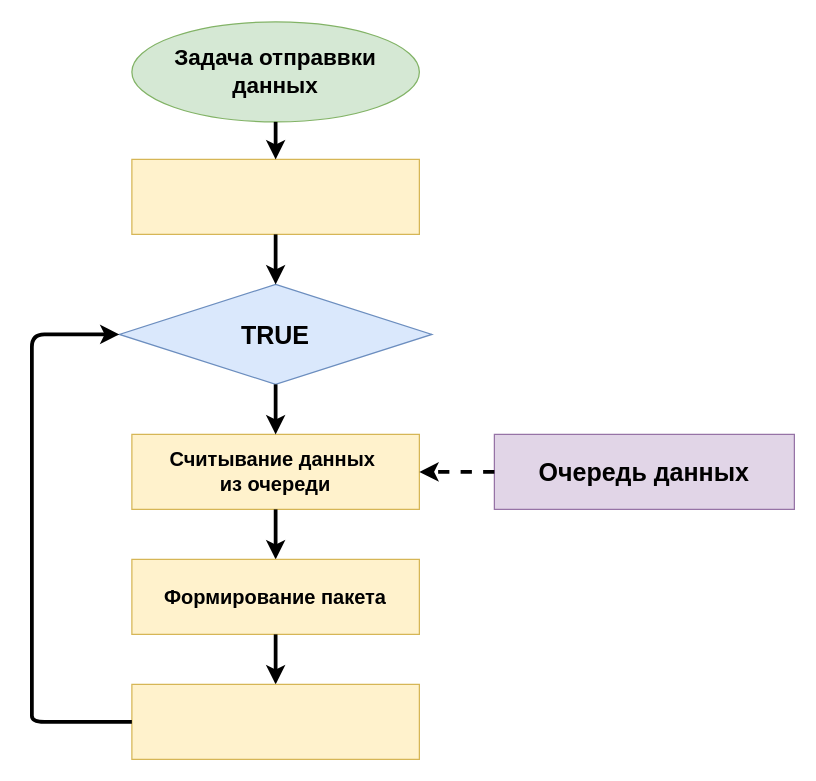
This 816x781 diagram has some shape labels left out. The shapes that lost their labels are listed below. From the top down, each one's centre as x and y in pixels, then its label:
At [275,196]: "Создание локальных переменных и инициализация".
At [275,721]: "Отправка пакета на медицинский компьютер".
